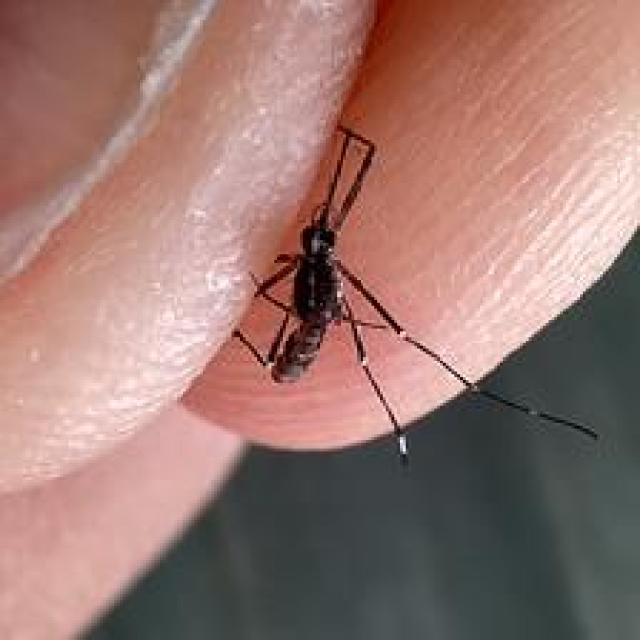Aedes albopictus: (230, 123, 599, 466)
